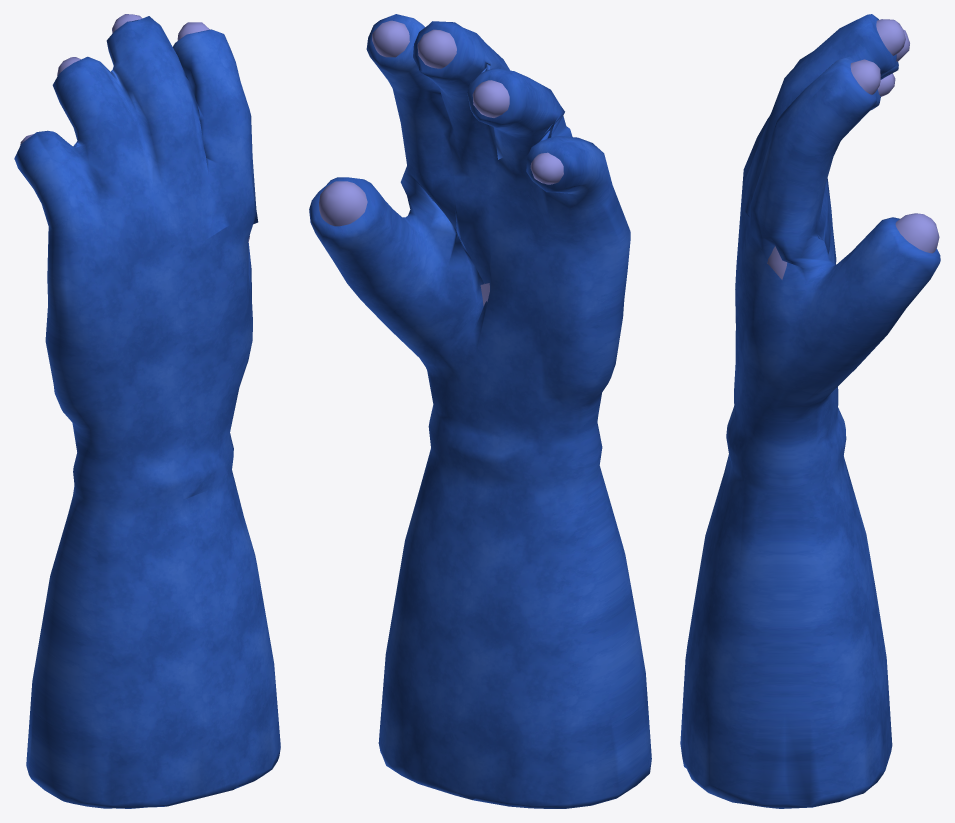
Rendered from hand_l.glb.
3 renders of one model, left to right at view 1: azimuth 30°, elevation 25°; view 2: azimuth 150°, elevation 25°; view 3: azimuth 270°, elevation 25°, orthographic. The views are drawn at different scales.
Parts seen in each view (by area): view 1: hand_cryo, hand_nitrile; view 2: hand_cryo, hand_nitrile; view 3: hand_cryo, hand_nitrile.
Part boxes in pixels (x1,y1,x2,y2): hand_cryo: (14,16,280,808); hand_nitrile: (20,14,249,242); hand_cryo: (309,14,651,808); hand_nitrile: (319,20,563,305); hand_cryo: (680,14,940,808); hand_nitrile: (767,19,939,279).
Bounding box in the file's own units: 0.0966 × 0.2698 × 0.0852.
2 materials, 1 textured.
